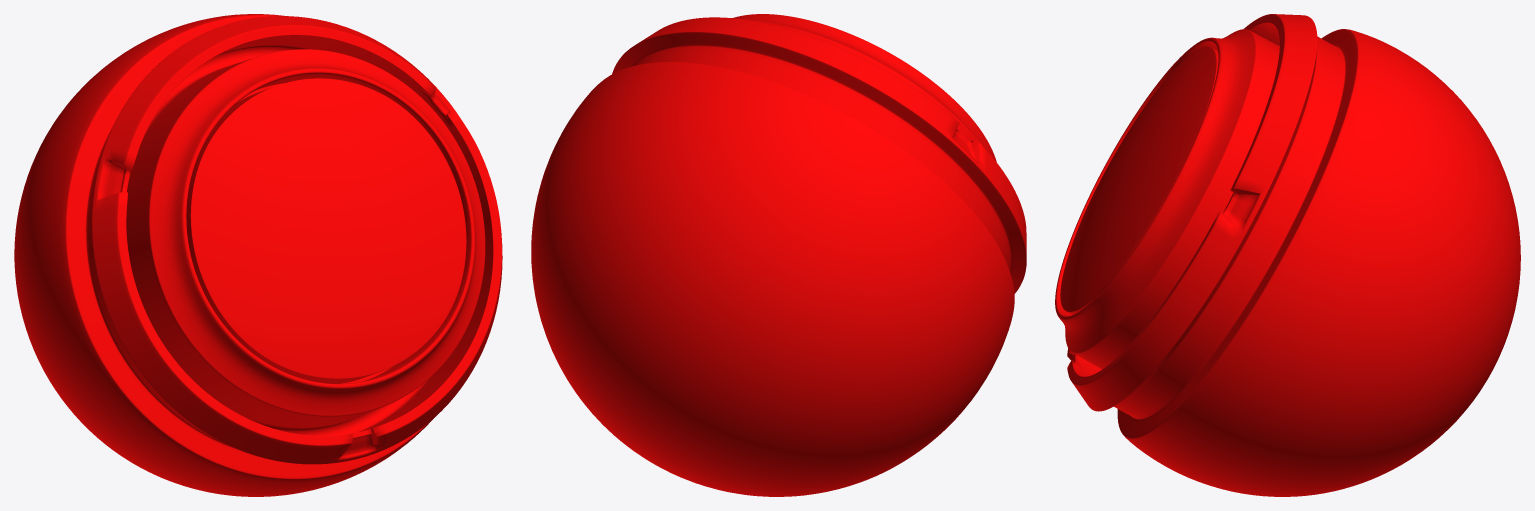
Rendered from PreviewSphere.obj.
3 renders of one model, left to right at view 1: azimuth 30°, elevation 25°; view 2: azimuth 150°, elevation 25°; view 3: azimuth 270°, elevation 25°, orthographic. The views are drawn at different scales.
Visible parts, largest first — view 1: PreviewSphere; view 2: PreviewSphere; view 3: PreviewSphere.
Part boxes in pixels (x1,y1,x2,y2): PreviewSphere: (14,14,502,496); PreviewSphere: (531,14,1026,496); PreviewSphere: (1055,14,1520,496).
Bounding box in the file's own units: 1.98 × 2 × 1.93.
